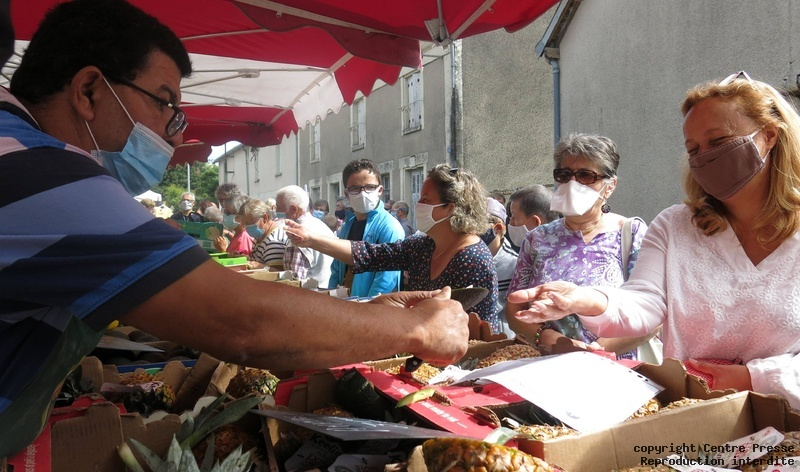with_incorrect_mask: (121, 48, 187, 193)
with_mask: (684, 120, 762, 187), (551, 162, 602, 212), (417, 186, 445, 230), (508, 203, 535, 243), (347, 178, 379, 208), (242, 209, 270, 240), (274, 195, 300, 223), (180, 194, 192, 211)
